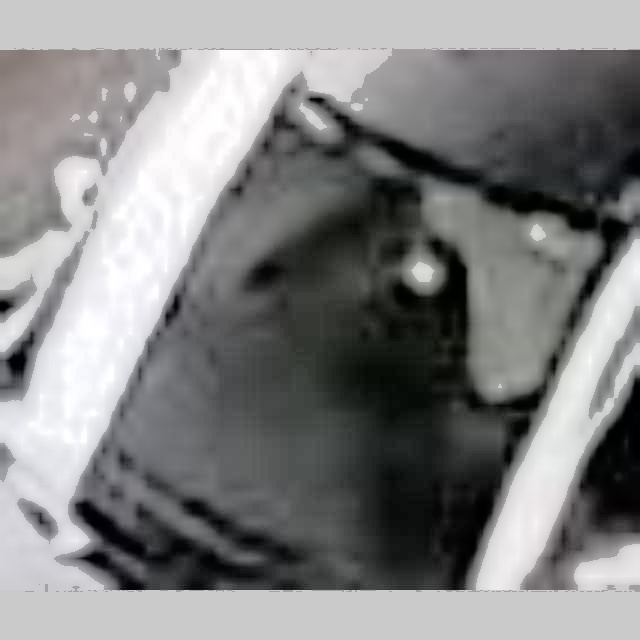tidak-pakai: (288, 185, 568, 429)
